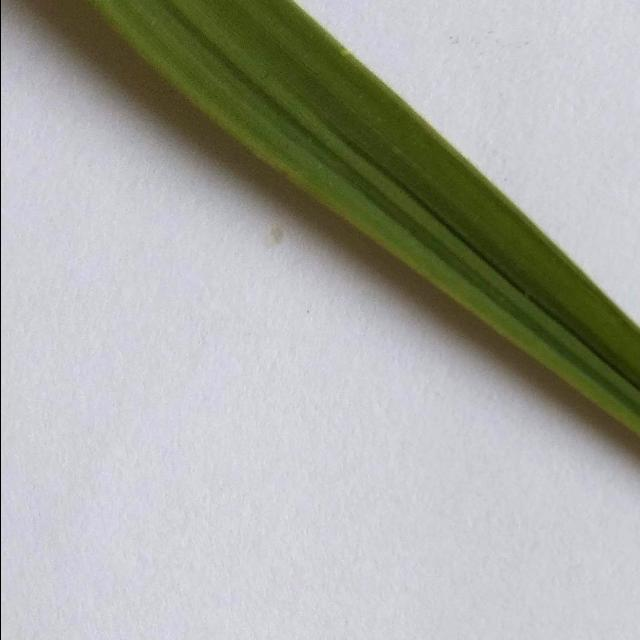healthy: (73, 0, 640, 453)
